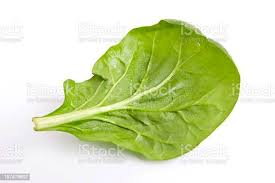spinach: (46, 33, 240, 160)
